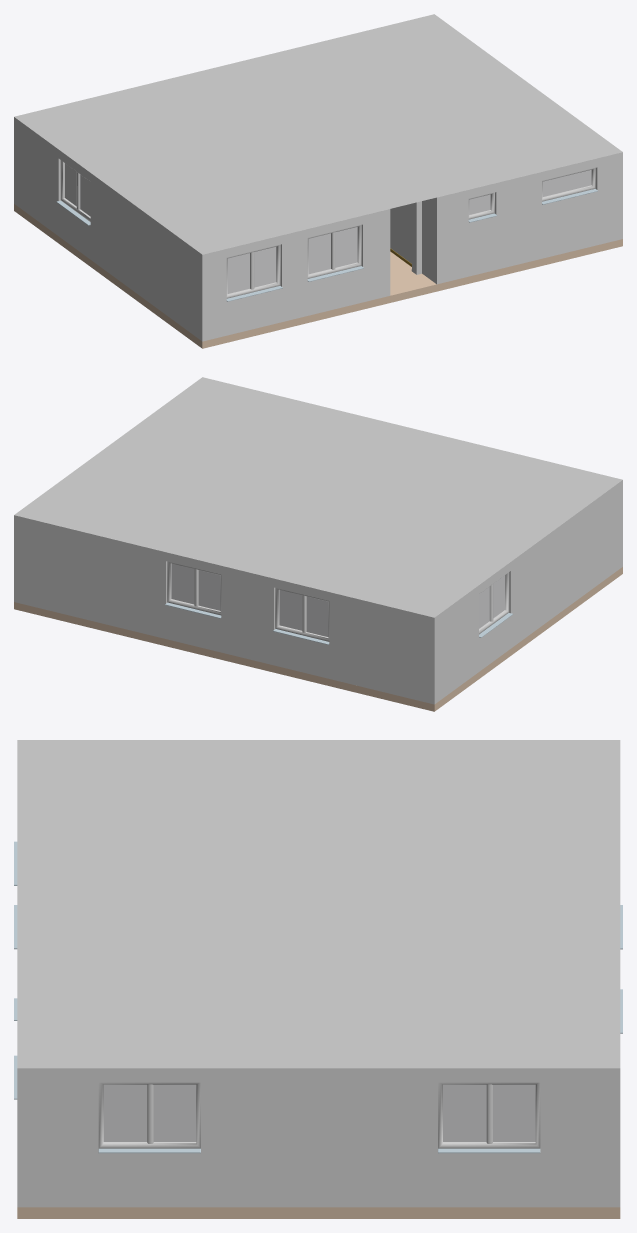
File: house.fbx
3 renders of one model, top to bottom at view 1: azimuth 30°, elevation 25°; view 2: azimuth 150°, elevation 25°; view 3: azimuth 270°, elevation 25°, orthographic. The views are drawn at different scales.
Visible parts, largest first — view 1: Würfel_3; view 2: Würfel_3; view 3: Würfel_3.
Boxes of the visible parts, x1,y1,x2,y2 form: Würfel_3: (14,14,622,348); Würfel_3: (14,377,622,711); Würfel_3: (14,740,622,1218).
Bounding box in the file's own units: 1227 × 260 × 953.
